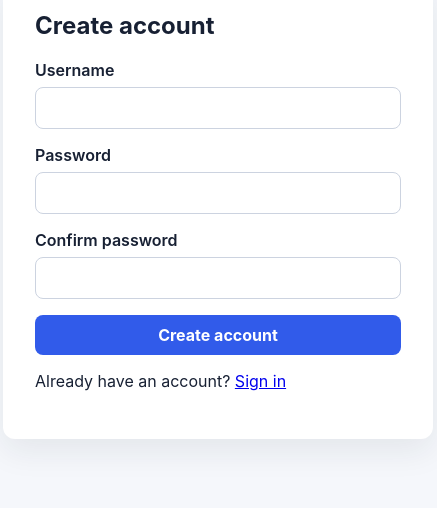
Test: Register › shows the backend error instead of assuming the username exists
The image size is (437, 508).
Type "new-user" into the field labelled "Username". click: [218, 108]
box: [35,87,401,129]
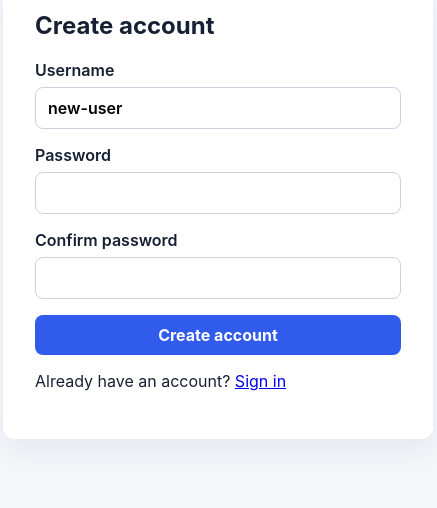
Type "LongSecurePassword123" into the password field labelled "Password". click: [218, 193]
box: [35,172,401,214]
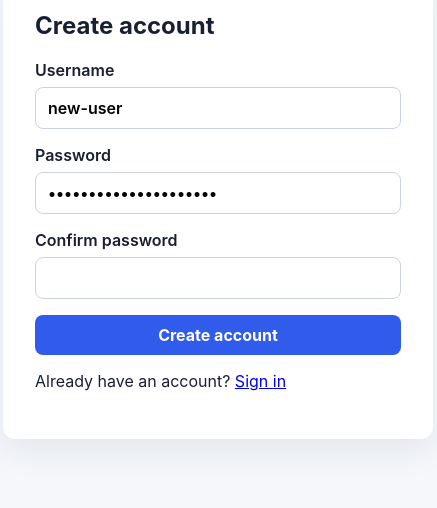
Type "LongSecurePassword123" into the password field labelled "Confirm password". click: [218, 278]
box: [35,257,401,299]
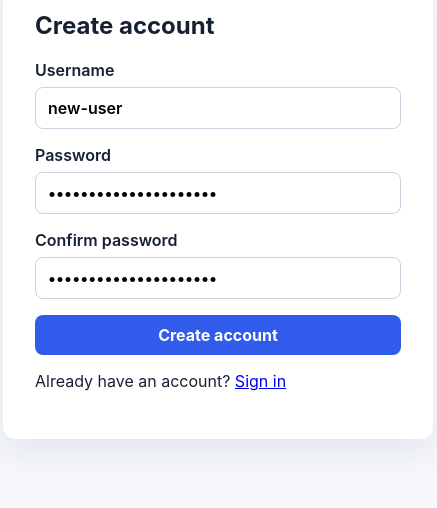
Click the button "Create account". click: [218, 335]
box: [35,315,401,355]
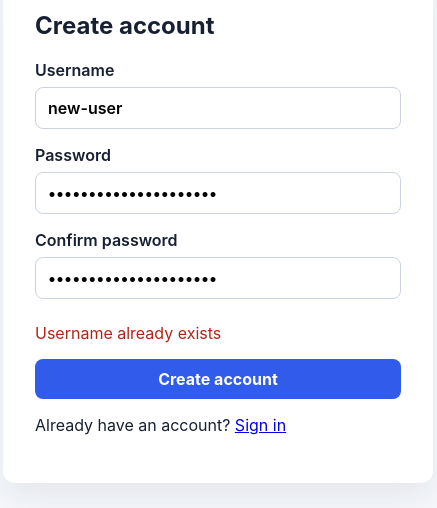
Expected: the message reads "Username already exists", [35,323,221,343]
